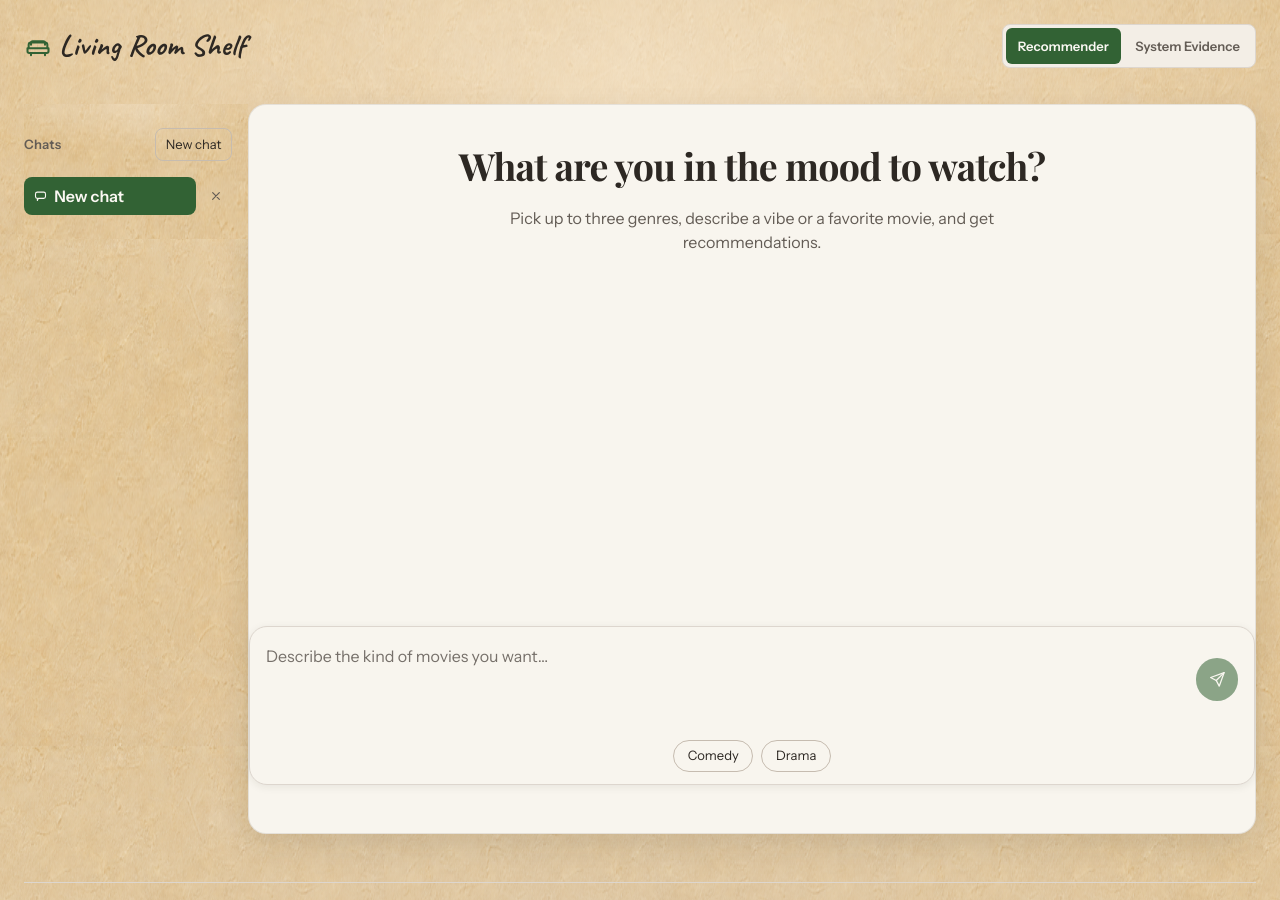
it: App conversational RAG chat › renders disambiguation from final-only SSE without stuck loading
Type "zzzznotamovie" into the text box with placeholder "Describe the kind of movies you want…".
click(728, 679); type("zzzznotamovie")  # box [266, 639, 1190, 720]
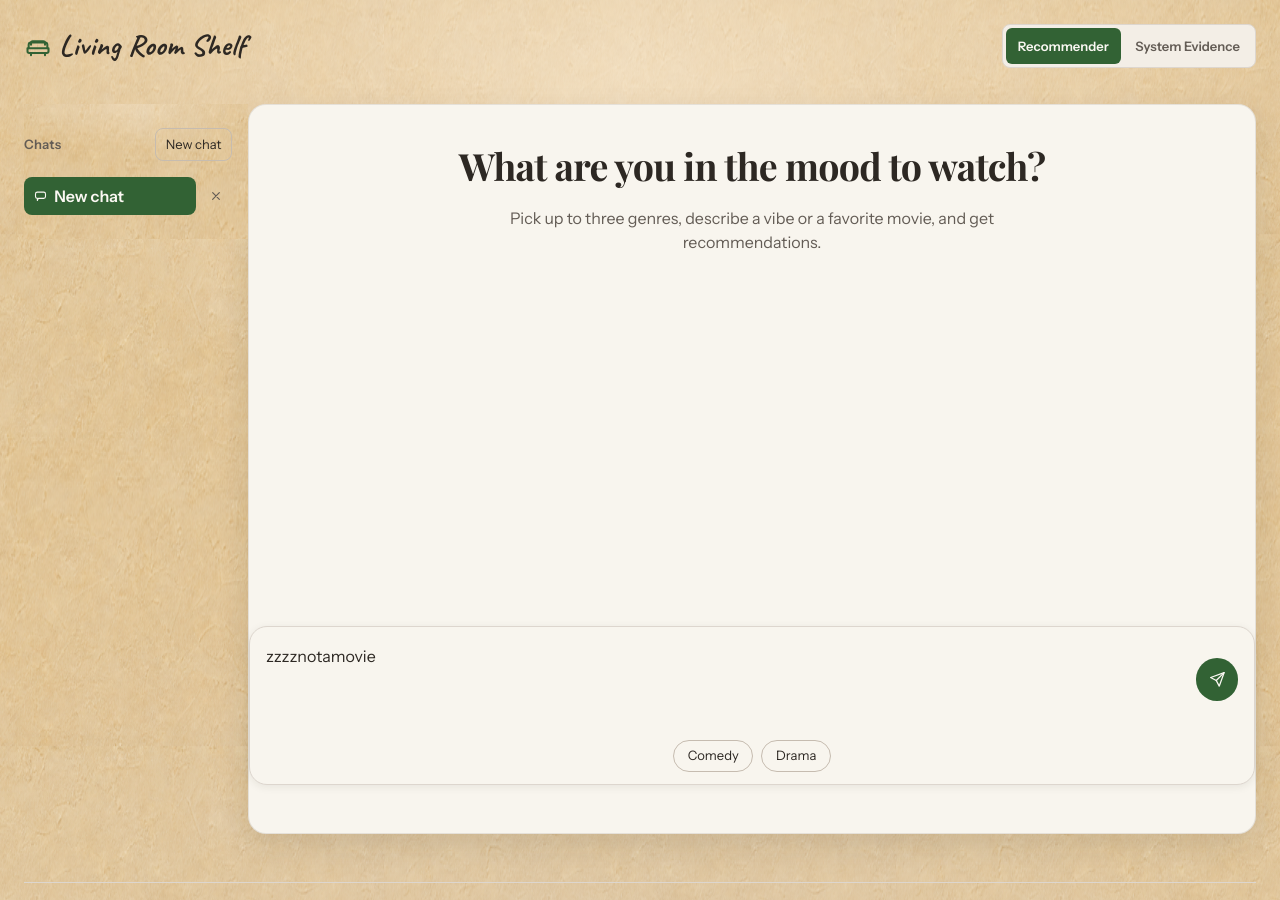
Click the button named "Send".
click(1217, 679)  # box [1196, 658, 1238, 700]
(page scrolled)
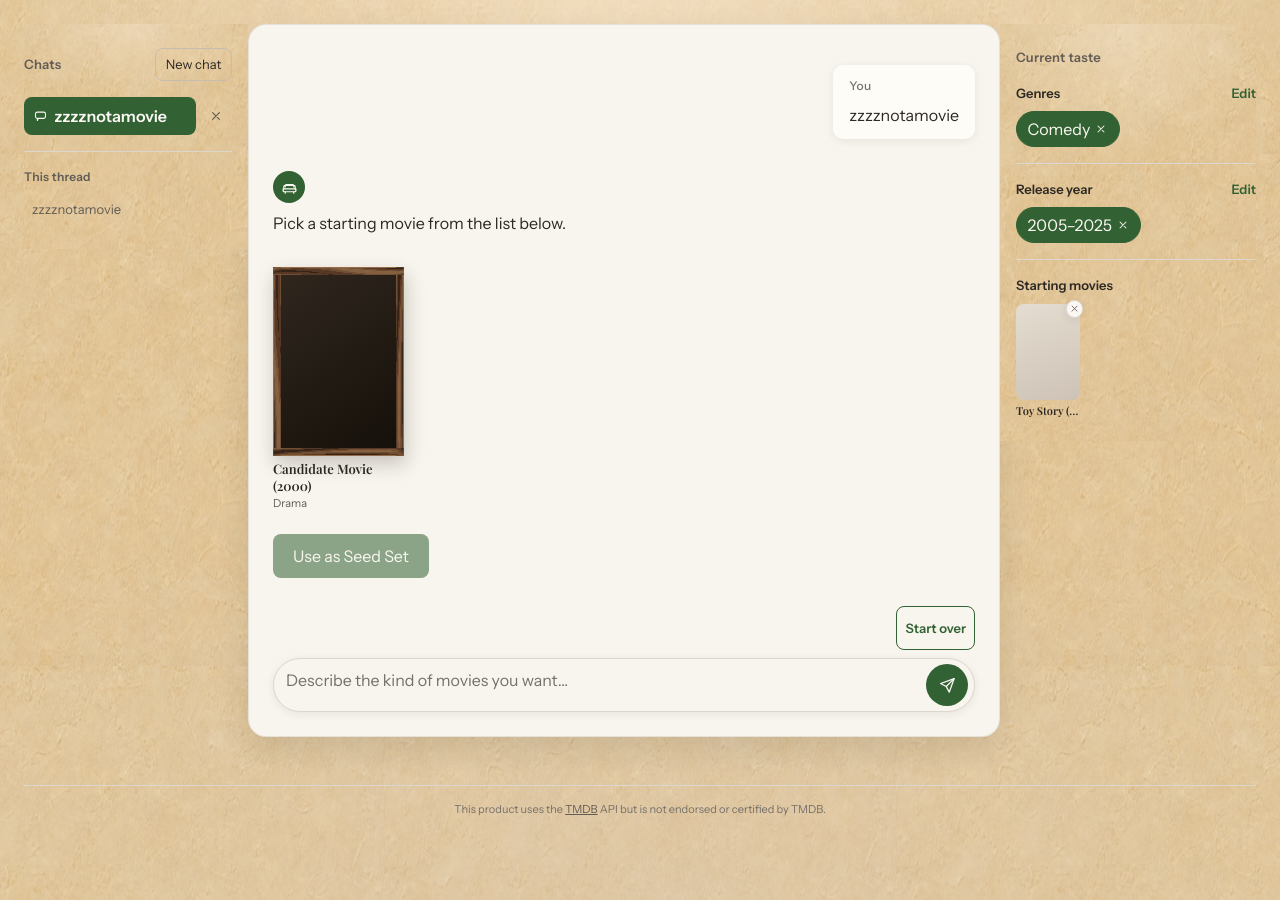
Expected: the button named "Send" is enabled, [926, 664, 968, 706]
Expected: the text "Pick a starting movie from the list below." is shown, [273, 213, 566, 233]
Expected: the button "Use as Seed Set" is shown, [273, 534, 429, 578]
